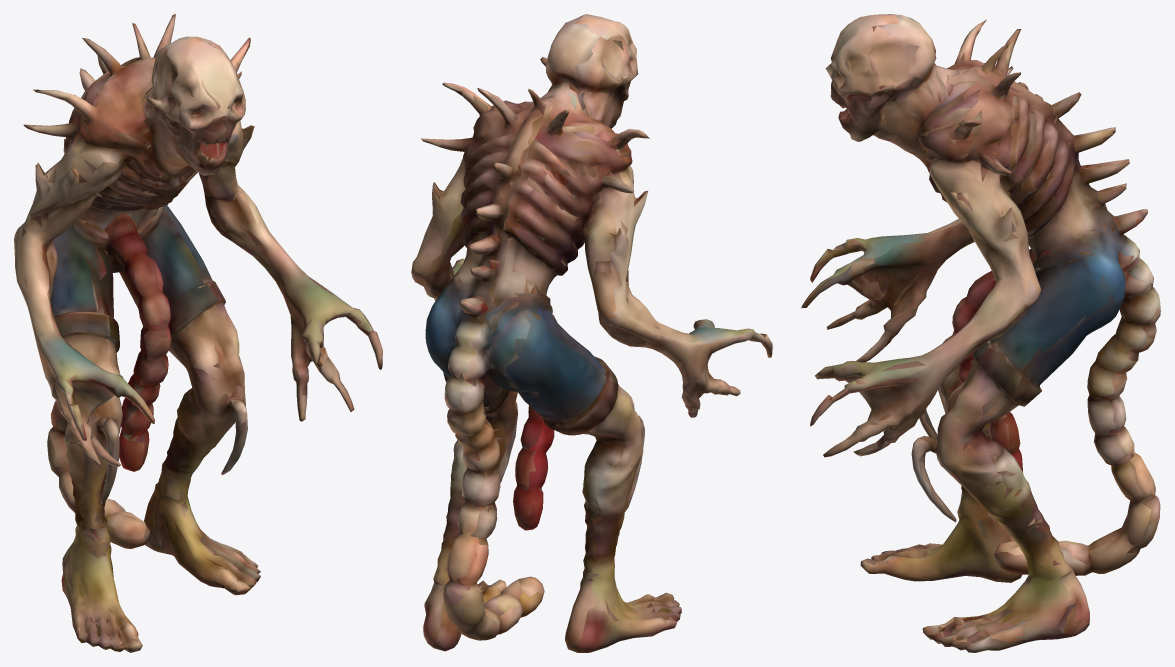
File: Unrisen_final.glb
The picture shows the model from 3 angles, left to right: view 1: azimuth 30°, elevation 25°; view 2: azimuth 150°, elevation 25°; view 3: azimuth 270°, elevation 25°; orthographic projection. The views are drawn at different scales.
Parts seen in each view (by area): view 1: Mesh_0.001; view 2: Mesh_0.001; view 3: Mesh_0.001.
Boxes of the visible parts, box(x1,y1,x2,y2) form: Mesh_0.001: box(14, 14, 382, 652); Mesh_0.001: box(411, 14, 772, 652); Mesh_0.001: box(801, 14, 1160, 652).
Size of the model in its own units: 0.9778 by 1.8 by 0.9924.
Materials: 1 (1 with a texture image).
